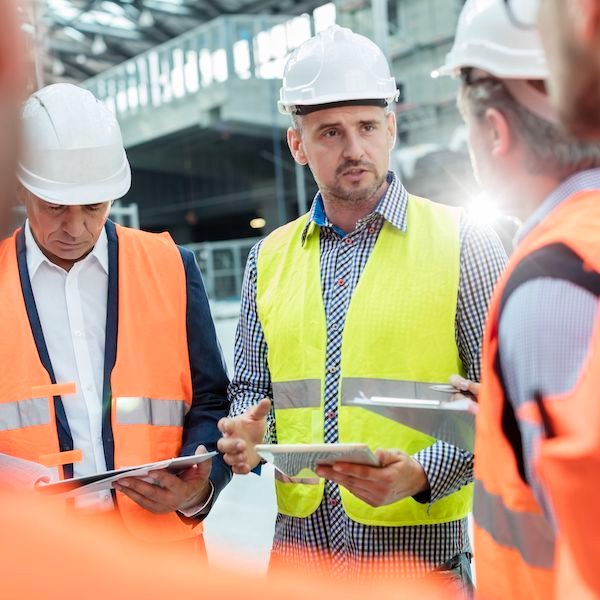helmet: (20, 84, 132, 201), (271, 25, 400, 109), (434, 4, 569, 80)
vest: (260, 208, 479, 522), (7, 212, 193, 515), (486, 217, 593, 551)
